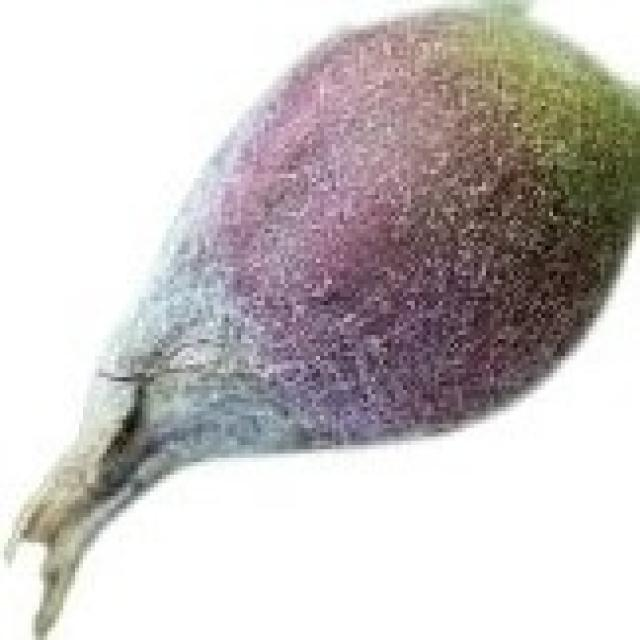20-_ripeness: (34, 6, 637, 603)
